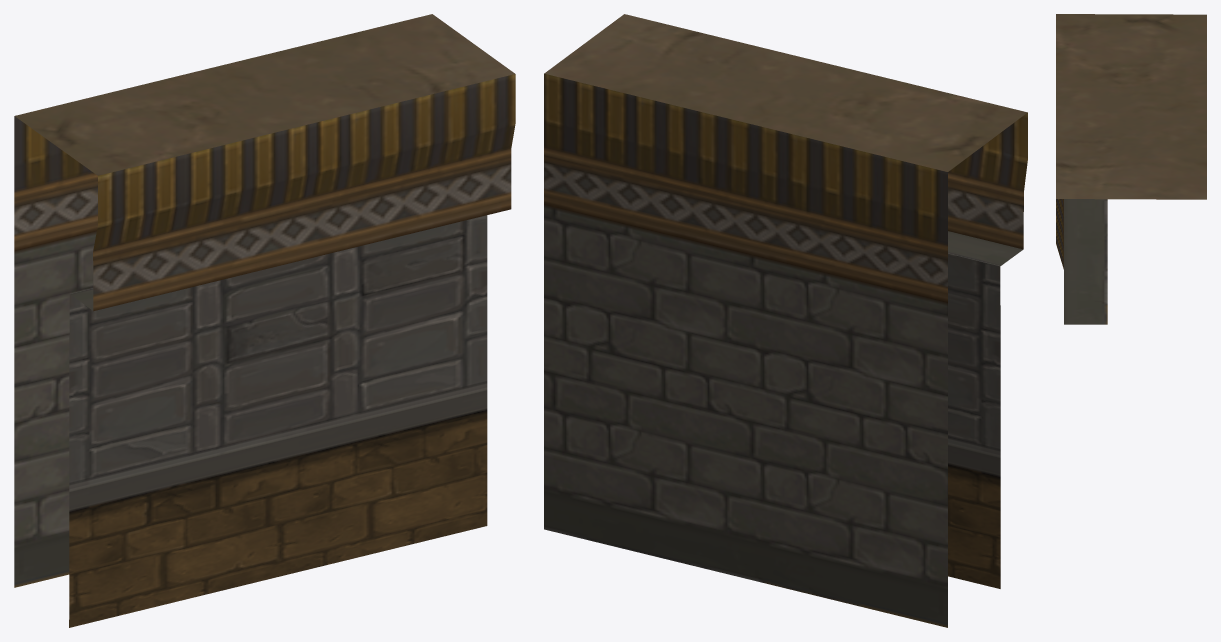
File: Battle06_Wall_018.FBX
The picture shows the model from 3 angles, left to right: view 1: azimuth 30°, elevation 25°; view 2: azimuth 150°, elevation 25°; view 3: azimuth 270°, elevation 25°; orthographic projection. The views are drawn at different scales.
Parts seen in each view (by area): view 1: Battle06_Wall_018; view 2: Battle06_Wall_018; view 3: Battle06_Wall_018.
Boxes of the visible parts, x1=… form: Battle06_Wall_018: x1=14, y1=14, x2=515, y2=627; Battle06_Wall_018: x1=544, y1=14, x2=1027, y2=627; Battle06_Wall_018: x1=1056, y1=14, x2=1206, y2=324.
Size of the model in its own units: 8.59 by 9.28 by 2.96.
